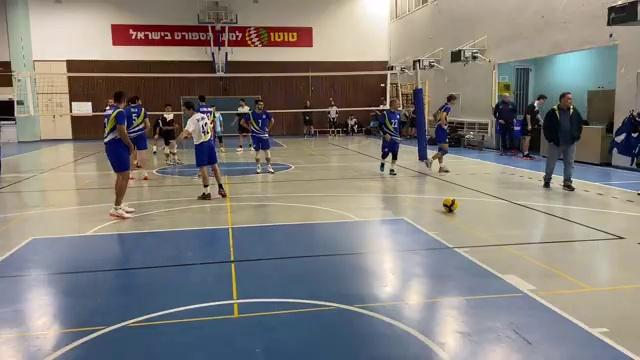ball: (444, 199, 459, 215)
